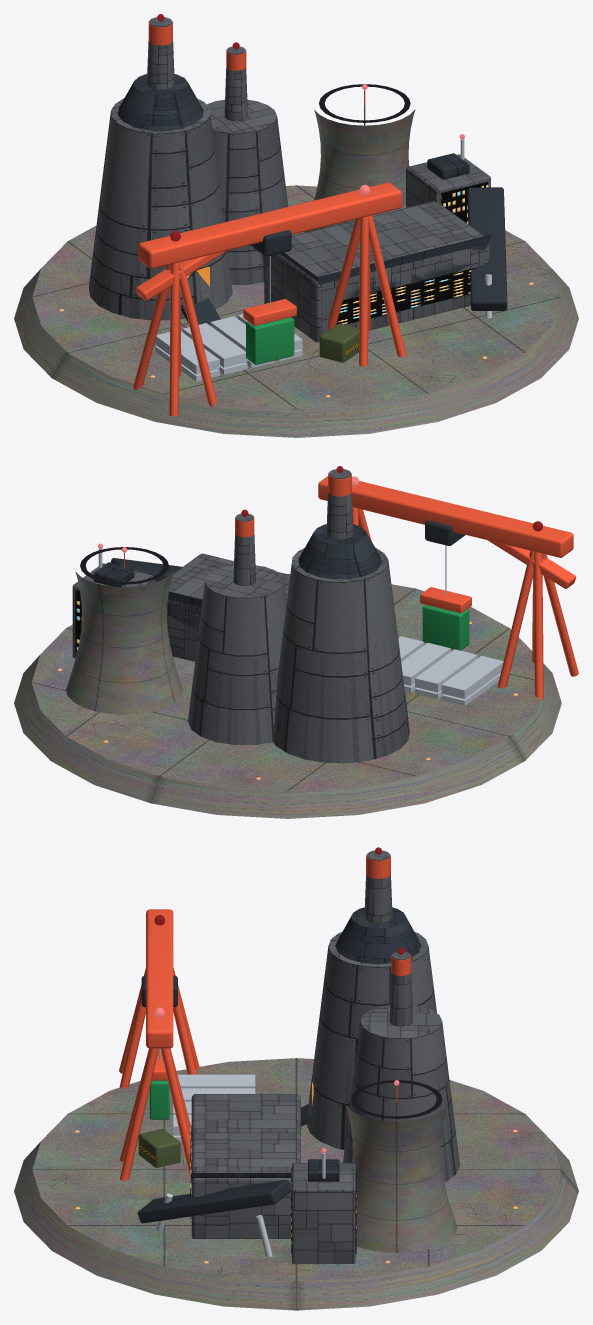
The model's file is steel-T4.glb.
3 views of the same model, one above another, from view 1: azimuth 30°, elevation 25°; view 2: azimuth 150°, elevation 25°; view 3: azimuth 270°, elevation 25° (orthographic). The views are drawn at different scales.
Visible parts, largest first — view 1: object 1, object 12, object 25, object 18, object 44, object 21, object 49, anim:trolley, anim:smoke (×2), object 13, object 27, object 26 (+16 smaller); view 2: object 1, object 12, object 18, object 21, object 44, anim:trolley, object 25, anim:smoke (×2), object 13, object 32, object 36, object 33 (+9 smaller); view 3: object 1, object 25, object 21, object 18, object 12, object 52, object 44, anim:smoke (×2), object 49, object 13, anim:trolley, object 43 (+7 smaller).
Boxes of the visible parts, x1,y1,x2,y2 form: object 1: (14, 185, 578, 437); object 12: (89, 98, 232, 320); object 25: (264, 201, 489, 342); object 18: (206, 99, 288, 284); object 44: (138, 182, 401, 268); object 21: (304, 109, 415, 232); object 49: (467, 187, 507, 310); anim:trolley: (243, 230, 296, 364); anim:smoke (×2): (146, 17, 247, 120); object 13: (118, 74, 203, 130); object 27: (336, 267, 475, 324); object 26: (279, 235, 490, 297); object 1: (14, 574, 561, 818); object 12: (273, 547, 409, 763); object 18: (188, 565, 286, 744); object 21: (66, 570, 182, 714); object 44: (318, 476, 573, 557); anim:trolley: (420, 520, 471, 650); object 25: (167, 553, 290, 661); anim:smoke (×2): (233, 469, 353, 585); object 13: (298, 524, 381, 579); object 32: (441, 655, 503, 699); object 36: (533, 552, 543, 700); object 33: (415, 649, 477, 692); object 1: (14, 1058, 578, 1310); object 25: (191, 1094, 300, 1238); object 21: (345, 1104, 457, 1252); object 18: (343, 1005, 459, 1182); object 12: (306, 931, 436, 1149); object 52: (292, 1163, 355, 1263); object 44: (146, 909, 173, 1048); anim:smoke (×2): (364, 850, 412, 1026); object 49: (137, 1180, 290, 1223); object 13: (335, 907, 421, 964); anim:trolley: (141, 975, 177, 1119); object 43: (120, 1048, 158, 1180).
Bounding box in the file's own units: 6.2 × 3.6 × 6.2.
20 materials, 6 textured.
